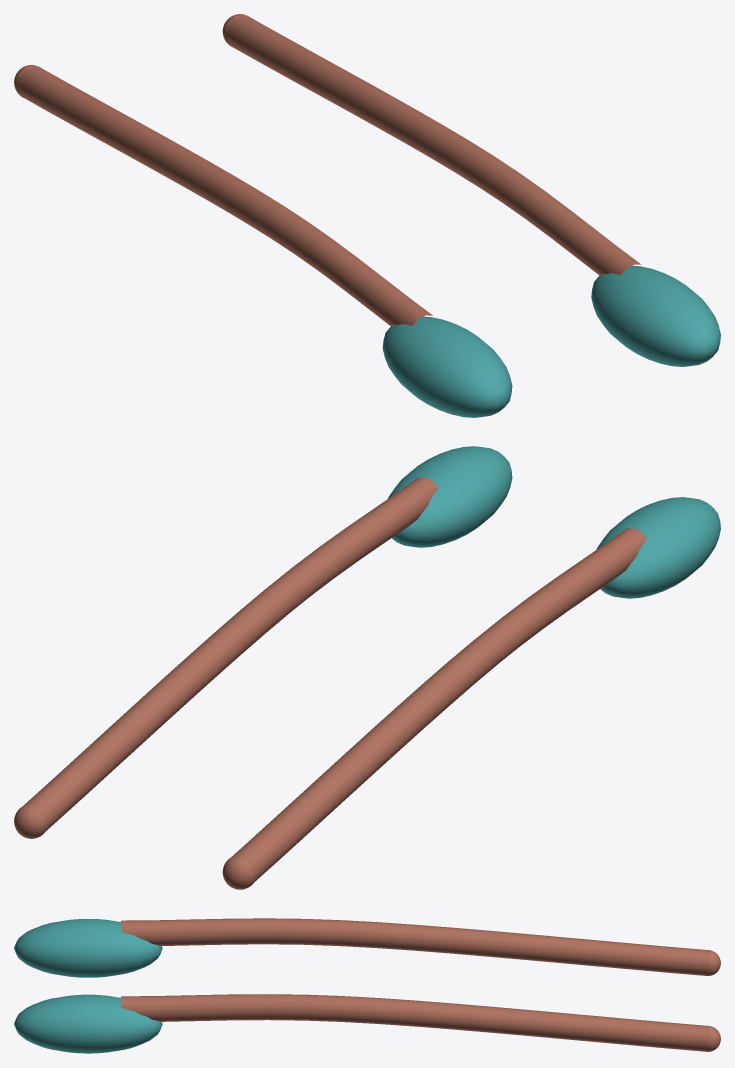
File: enchanted-harp-garden-and-music-sanctuary-dulcimer-mal-56d788cf__30413.glb
3 renders of one model, top to bottom at view 1: azimuth 30°, elevation 25°; view 2: azimuth 150°, elevation 25°; view 3: azimuth 270°, elevation 25°, orthographic. The views are drawn at different scales.
Visible parts, largest first — view 1: dulcimer-mallet-pair; view 2: dulcimer-mallet-pair; view 3: dulcimer-mallet-pair.
Boxes of the visible parts, x1,y1,x2,y2 form: dulcimer-mallet-pair: (14, 14, 720, 417); dulcimer-mallet-pair: (14, 446, 720, 889); dulcimer-mallet-pair: (14, 918, 720, 1053).
Size of the model in its own units: 0.1541 by 0.0375 by 0.4336.
